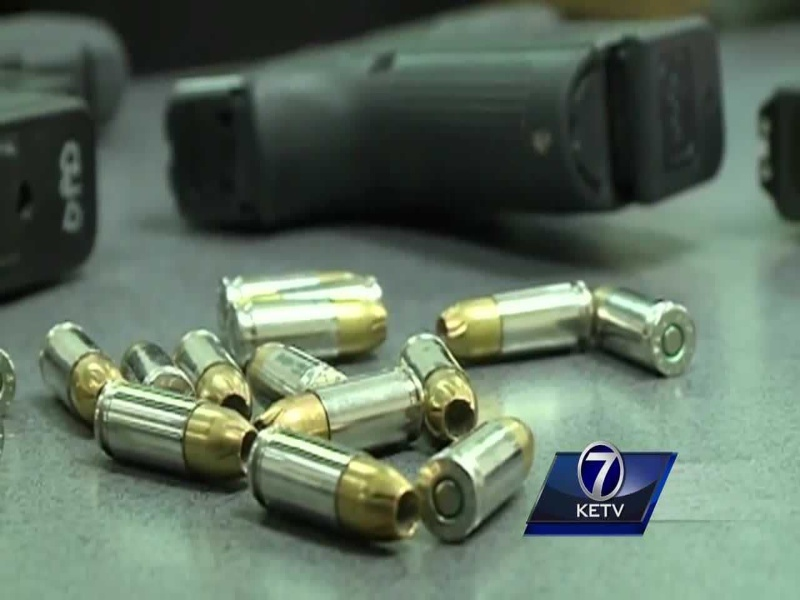gun: (154, 9, 765, 247)
